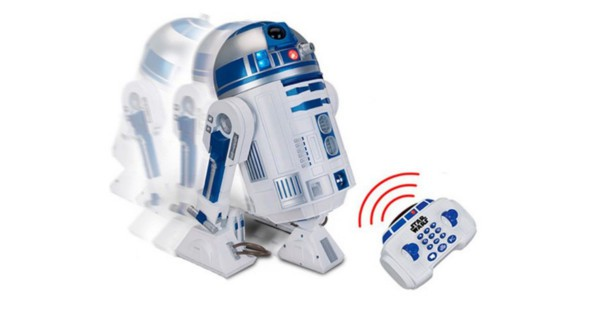r2d2: (204, 21, 355, 277)
